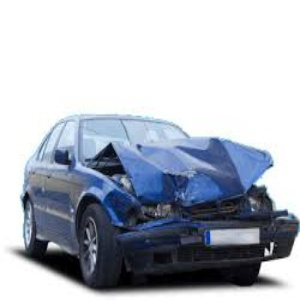bonnet: (102, 135, 274, 191)
bumper: (111, 213, 184, 279)
